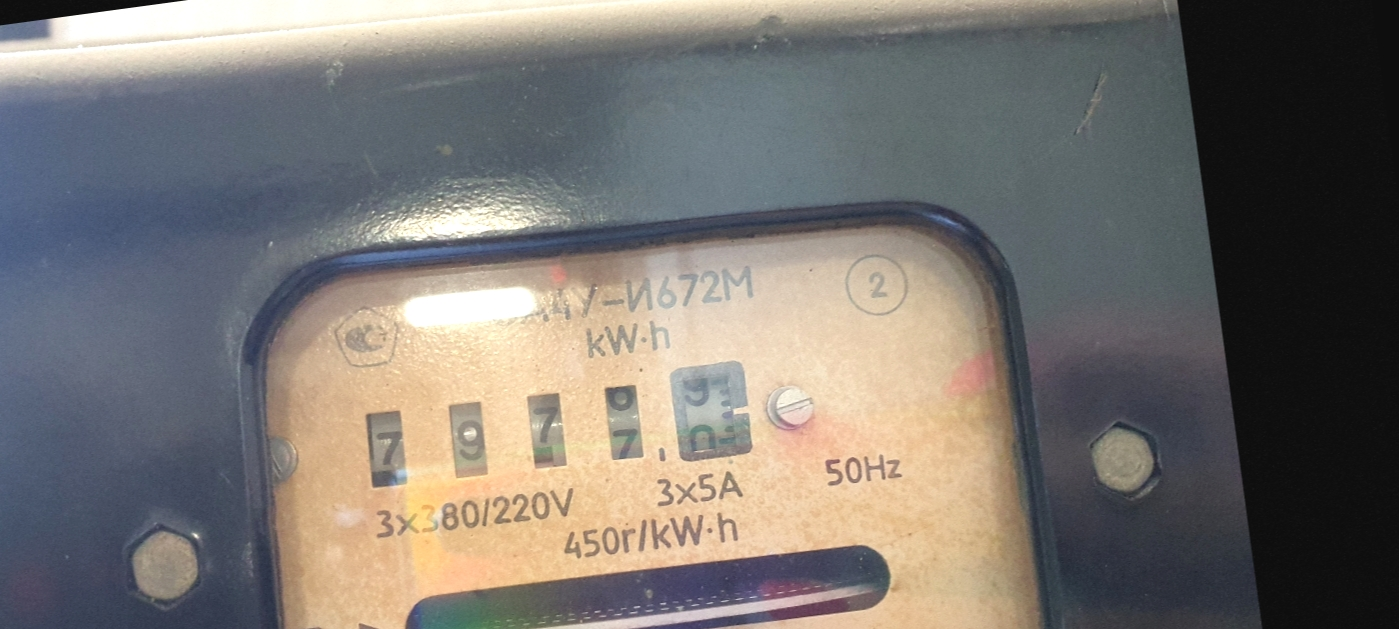0: (684, 415, 721, 458)
7: (372, 424, 407, 470), (529, 400, 564, 446), (608, 422, 643, 461)
9: (450, 414, 490, 463), (679, 368, 714, 408)
screen: (340, 335, 782, 527)
